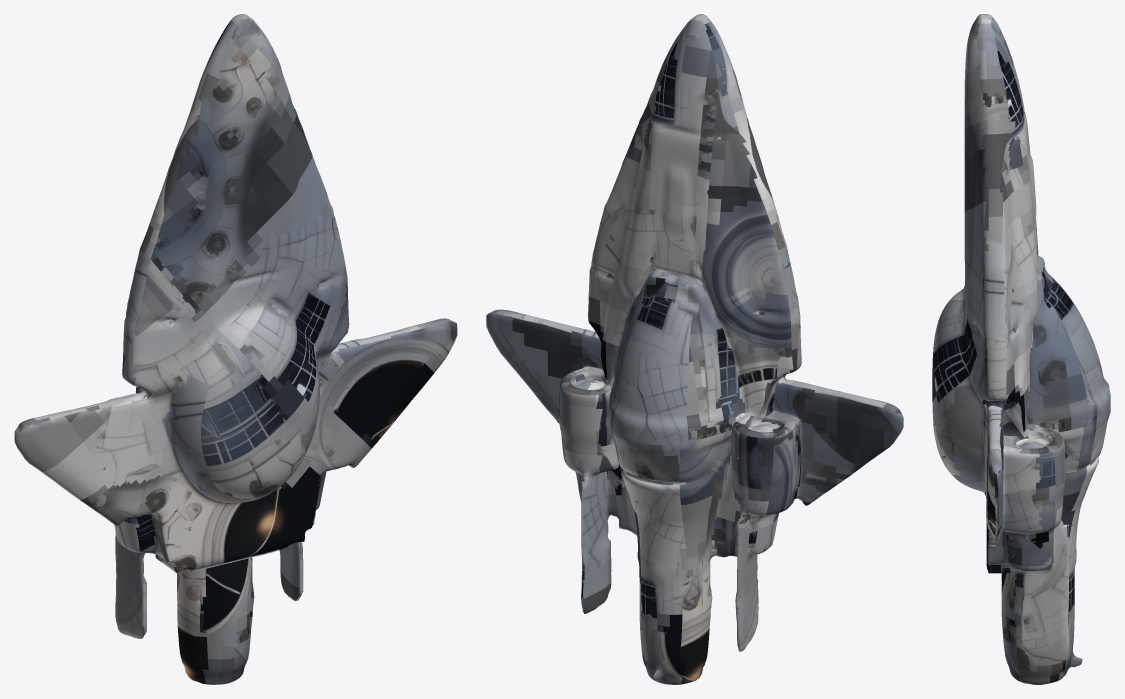
Rendered from nave33d.fbx.
3 views of the same model, side by side, from view 1: azimuth 30°, elevation 25°; view 2: azimuth 150°, elevation 25°; view 3: azimuth 270°, elevation 25° (orthographic). The views are drawn at different scales.
Visible parts, largest first — view 1: model; view 2: model; view 3: model.
Part boxes in pixels (x1,y1,x2,y2): model: (14, 14, 457, 684); model: (486, 14, 903, 684); model: (932, 14, 1110, 684).
Size of the model in its own units: 130 by 190 by 46.68.
